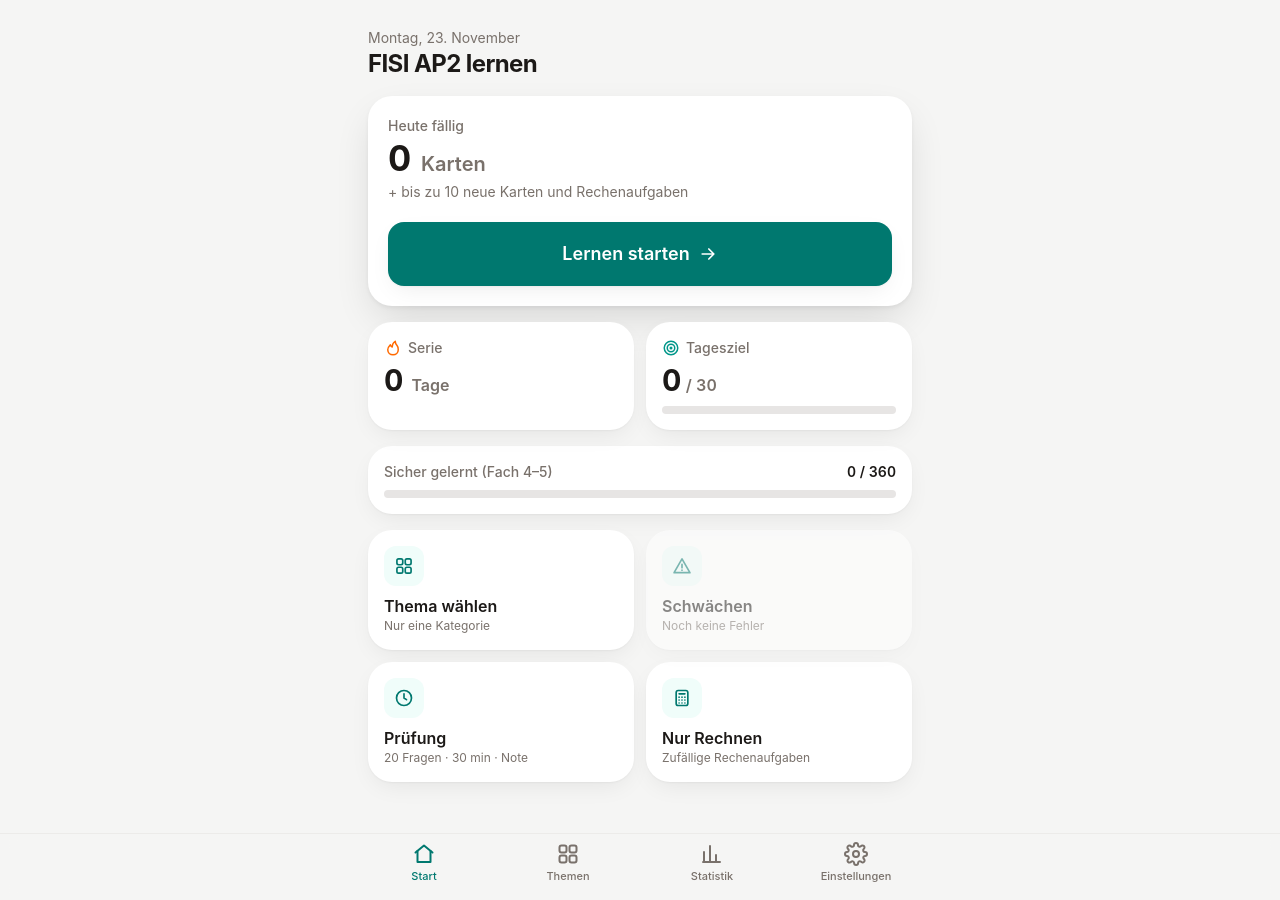
App › Prüfung endet automatisch nach 30 Minuten
The image size is (1280, 900).
Click the button "Prüfung 20 Fragen · 30 min · Note" at (404, 698), box [368,662,634,782]
Wait 1802000 ms
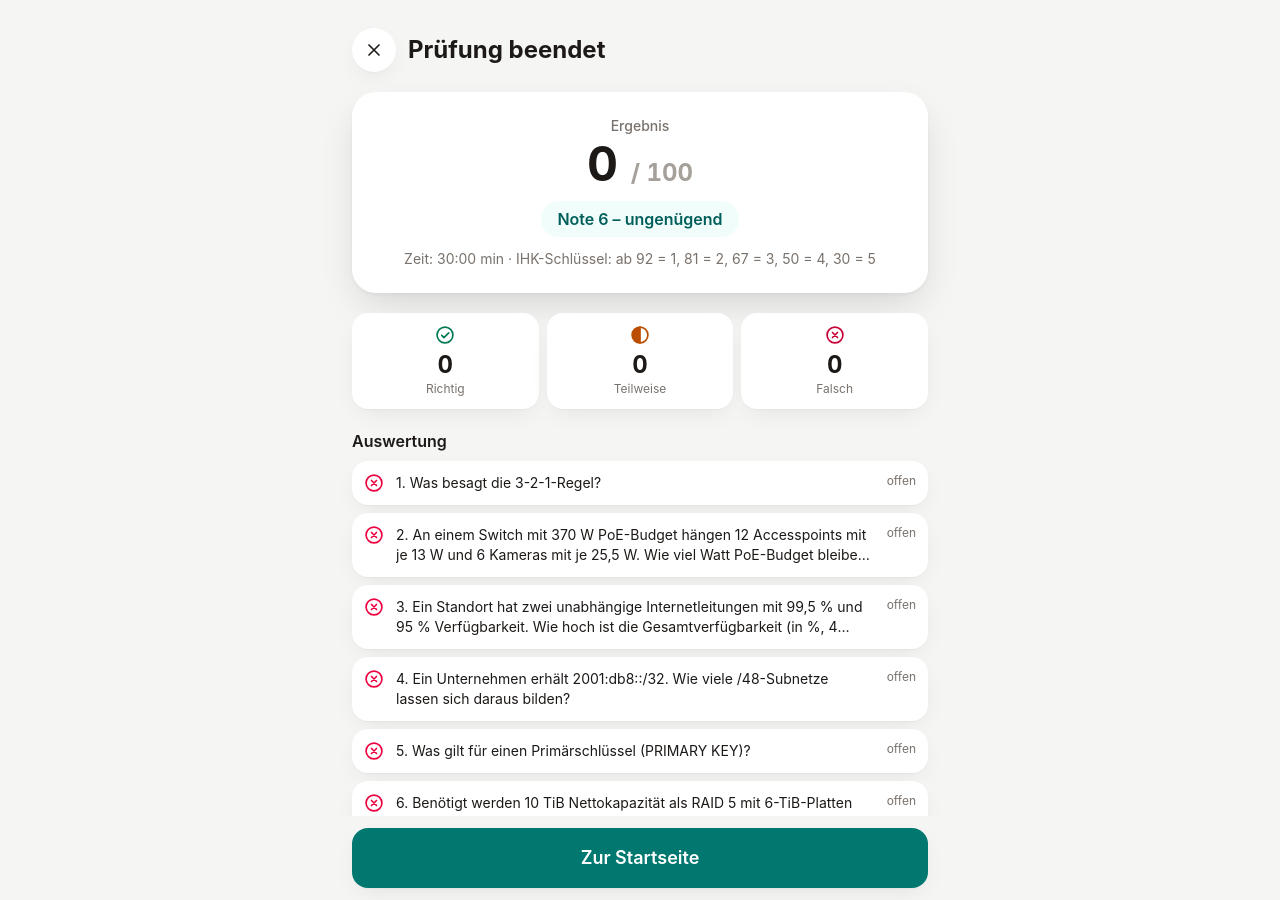
Result: the heading "Prüfung beendet" is shown at [408,34,605,66]
